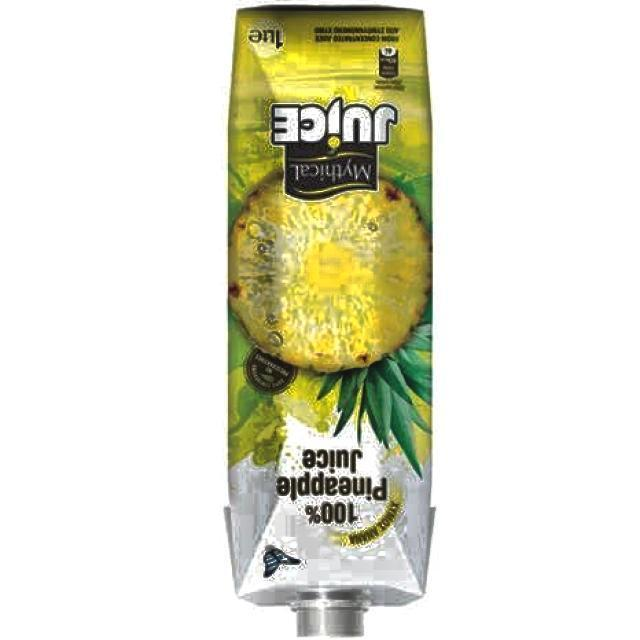cardboard: (226, 8, 437, 637)
